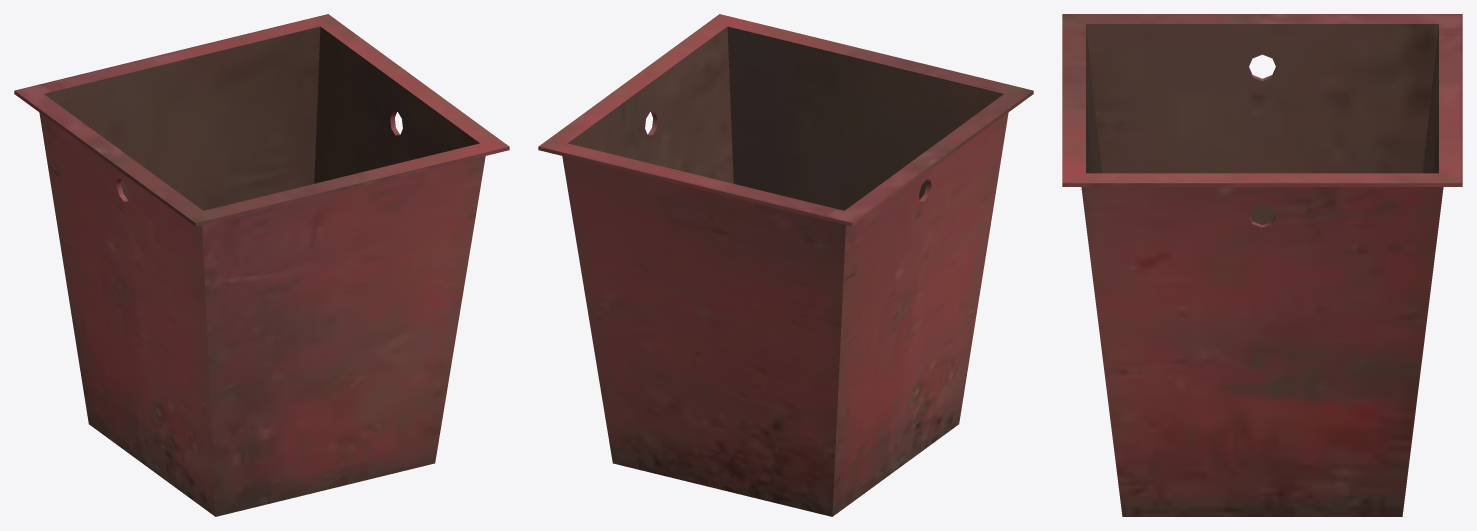
The model's file is p_chair.glb.
3 views of the same model, side by side, from view 1: azimuth 30°, elevation 25°; view 2: azimuth 150°, elevation 25°; view 3: azimuth 270°, elevation 25° (orthographic). The views are drawn at different scales.
Visible parts, largest first — view 1: can; view 2: can; view 3: can.
Part boxes in pixels (box(x1,y1,x2,y2)): can: box(14, 14, 509, 516); can: box(538, 14, 1033, 516); can: box(1062, 14, 1462, 516).
Size of the model in its own units: 1.38 by 1.37 by 1.38.
Materials: 1 (1 with a texture image).
